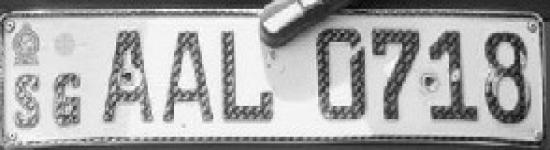0: (313, 26, 370, 125)
1: (426, 25, 482, 130)
7: (370, 22, 423, 126)
8: (484, 28, 531, 130)
A: (98, 26, 158, 127), (161, 25, 216, 126)
G: (50, 66, 87, 129)
L: (219, 26, 274, 126)
S: (11, 69, 44, 129)
